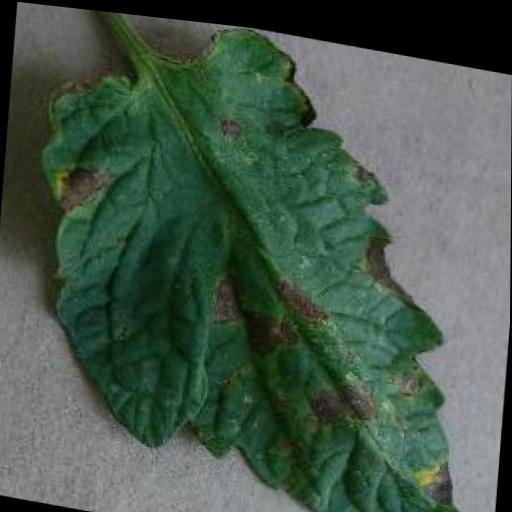Early Blight: (18, 2, 512, 512)
